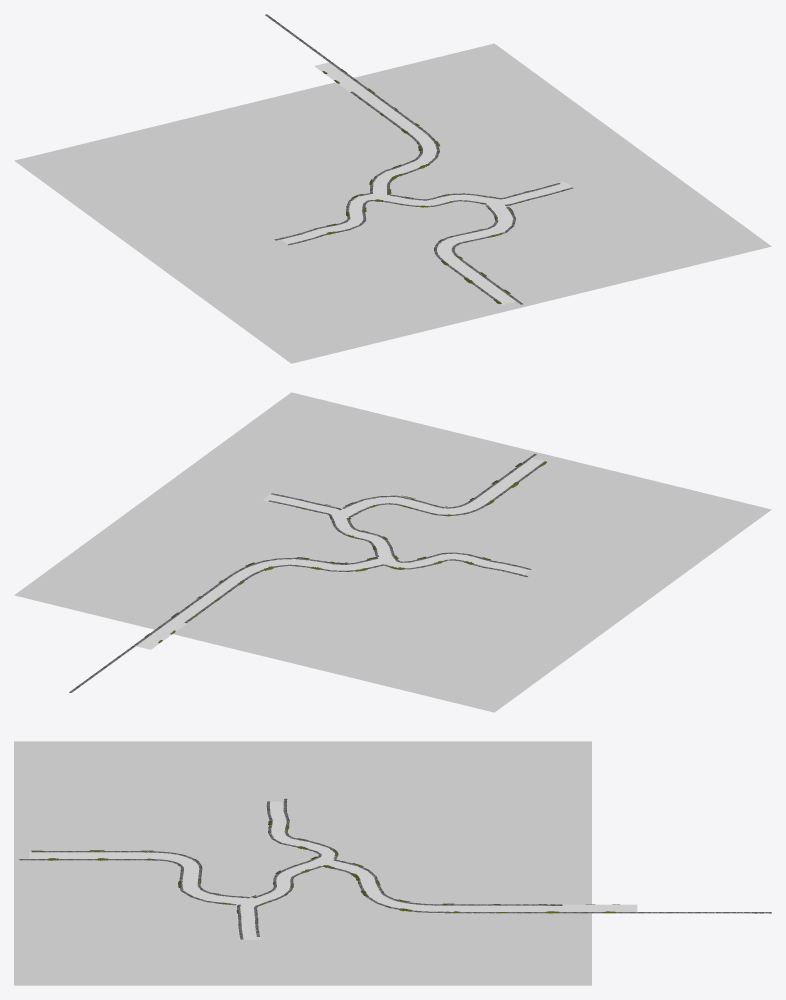
Rendered from Level 4.fbx.
3 views of the same model, one above another, from view 1: azimuth 30°, elevation 25°; view 2: azimuth 150°, elevation 25°; view 3: azimuth 270°, elevation 25° (orthographic). The views are drawn at different scales.
Visible parts, largest first — view 1: Ground Test 3.002, Dirt_Ground 1.004, Dirt_Ground 1.006, Dirt_Ground 1.005, Stone 1.012, Stone 1.009; view 2: Ground Test 3.002, Dirt_Ground 1.004, Dirt_Ground 1.006, Dirt_Ground 1.005, Stone 1.012, Stone 1.008; view 3: Ground Test 3.002, Dirt_Ground 1.004, Dirt_Ground 1.006, Dirt_Ground 1.005, Stone 1.012, Stone 1.008, Stone 1.009, Stone 1.011, Stone 1.013, Stone 1.010.
Part boxes in pixels (x1,y1,x2,y2): Ground Test 3.002: (14,43,771,363); Dirt_Ground 1.004: (281,181,574,245); Dirt_Ground 1.006: (314,62,439,194); Dirt_Ground 1.005: (434,204,515,305); Stone 1.012: (265,14,439,194); Stone 1.009: (274,183,560,240); Ground Test 3.002: (14,392,771,712); Dirt_Ground 1.004: (263,493,529,575); Dirt_Ground 1.006: (136,559,383,649); Dirt_Ground 1.005: (342,458,547,517); Stone 1.012: (69,557,378,692); Stone 1.008: (271,493,531,569); Ground Test 3.002: (14,741,591,985); Dirt_Ground 1.004: (236,801,335,940); Dirt_Ground 1.006: (327,861,637,913); Dirt_Ground 1.005: (29,851,251,905); Stone 1.012: (330,867,771,913); Stone 1.008: (237,801,321,939); Stone 1.009: (254,798,337,936); Stone 1.011: (31,851,249,898); Stone 1.013: (333,859,562,905); Stone 1.010: (19,859,236,905).
Size of the model in its own units: 15000 by 60.79 by 19671.
